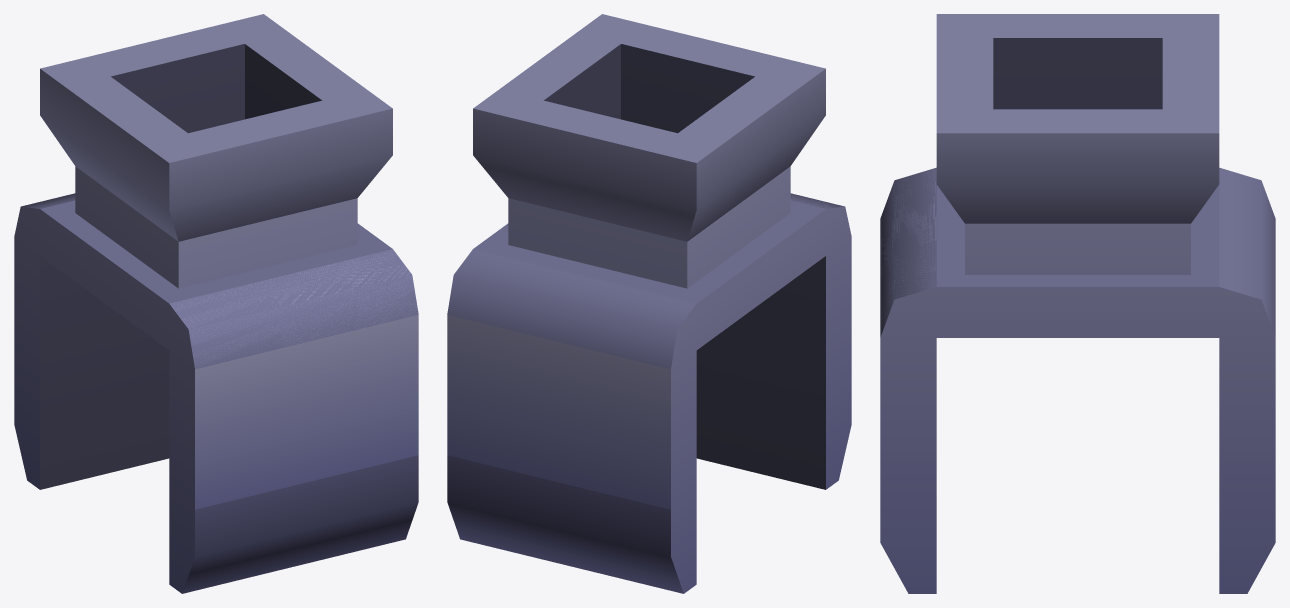
Rendered from cover-hopper.glb.
3 views of the same model, side by side, from view 1: azimuth 30°, elevation 25°; view 2: azimuth 150°, elevation 25°; view 3: azimuth 270°, elevation 25° (orthographic). The views are drawn at different scales.
Visible parts, largest first — view 1: cover-hopper; view 2: cover-hopper; view 3: cover-hopper.
Boxes of the visible parts, x1,y1,x2,y2 form: cover-hopper: (14, 14, 418, 593); cover-hopper: (447, 14, 851, 593); cover-hopper: (880, 14, 1275, 593).
Size of the model in its own units: 1 by 1.8 by 1.4.
